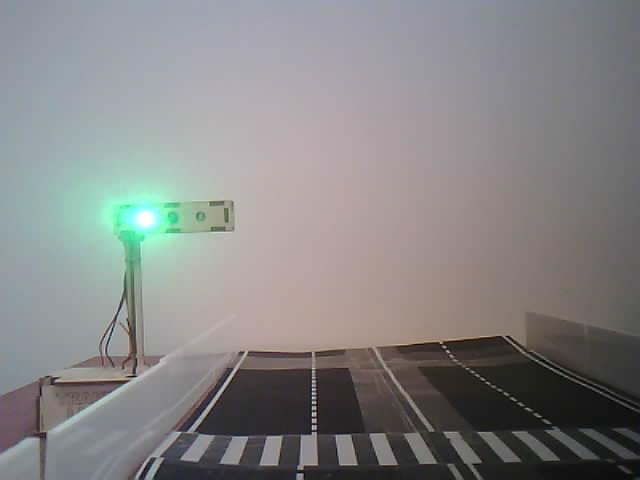crosswalk: (139, 417, 640, 480)
green: (101, 189, 257, 252)
